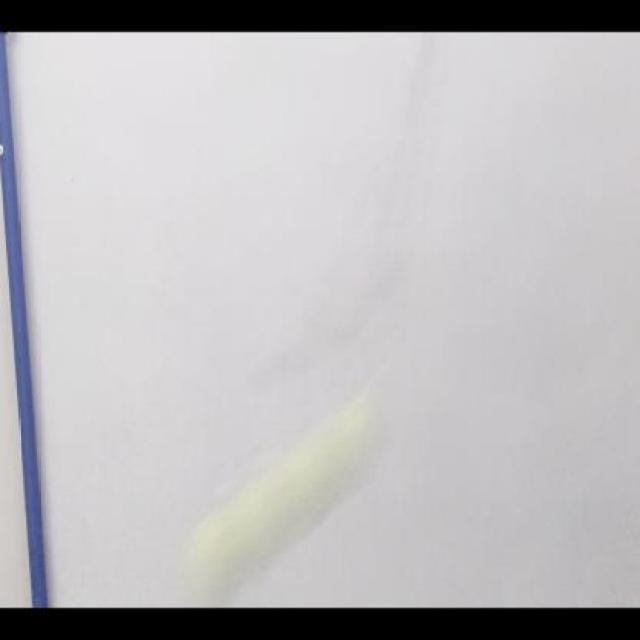baseball: (196, 411, 375, 600)
